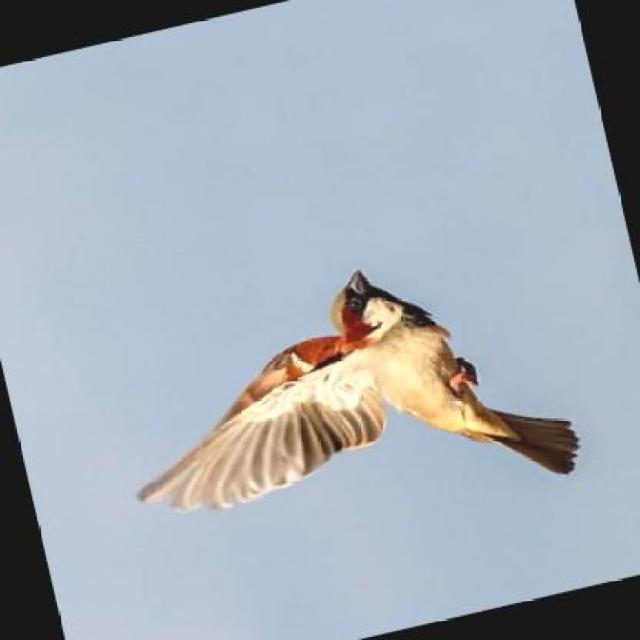Bird: (129, 268, 607, 517)
